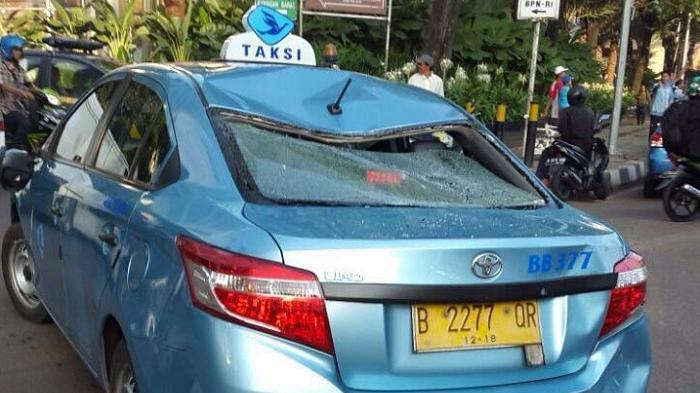plate: (410, 298, 542, 354)
